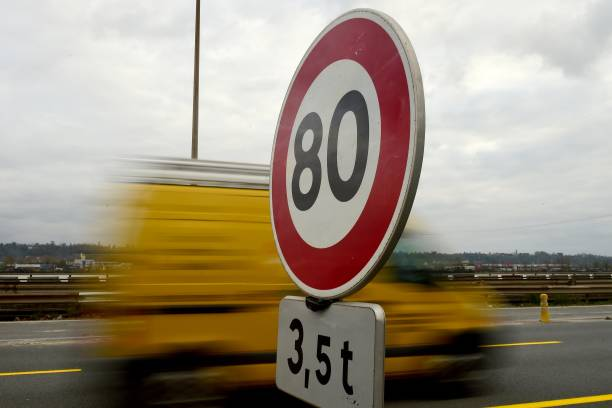Speed_limit_80km: (268, 10, 426, 300)
